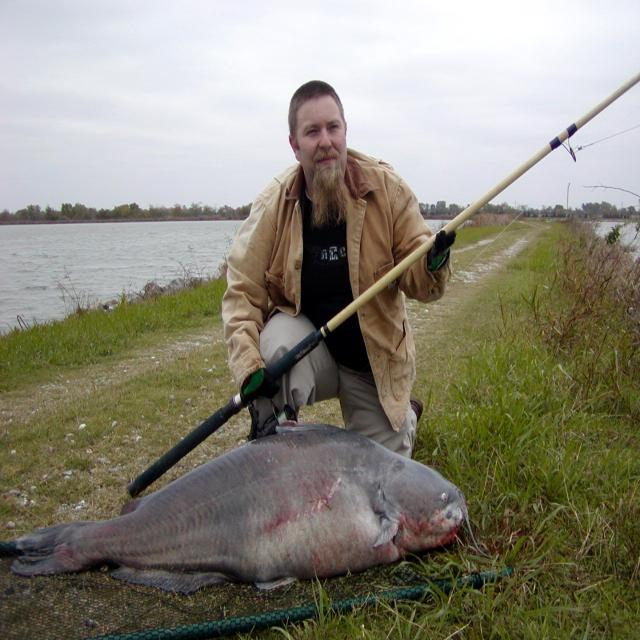Catfish - Blue: (0, 423, 468, 593)
